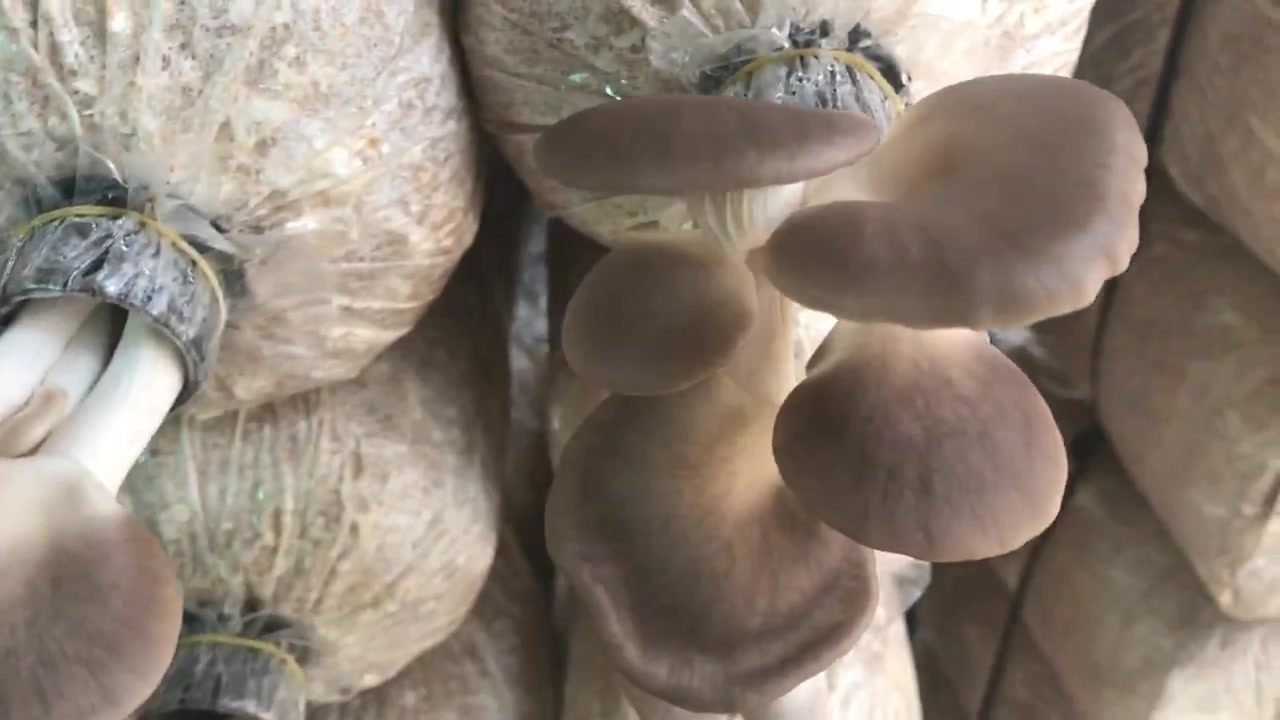nam: (534, 53, 1146, 709), (1, 217, 242, 719)
